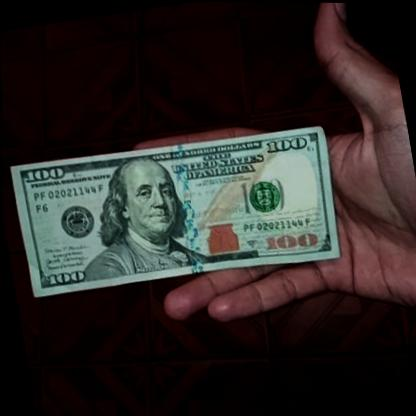one_hundred-front: (4, 112, 348, 305)
